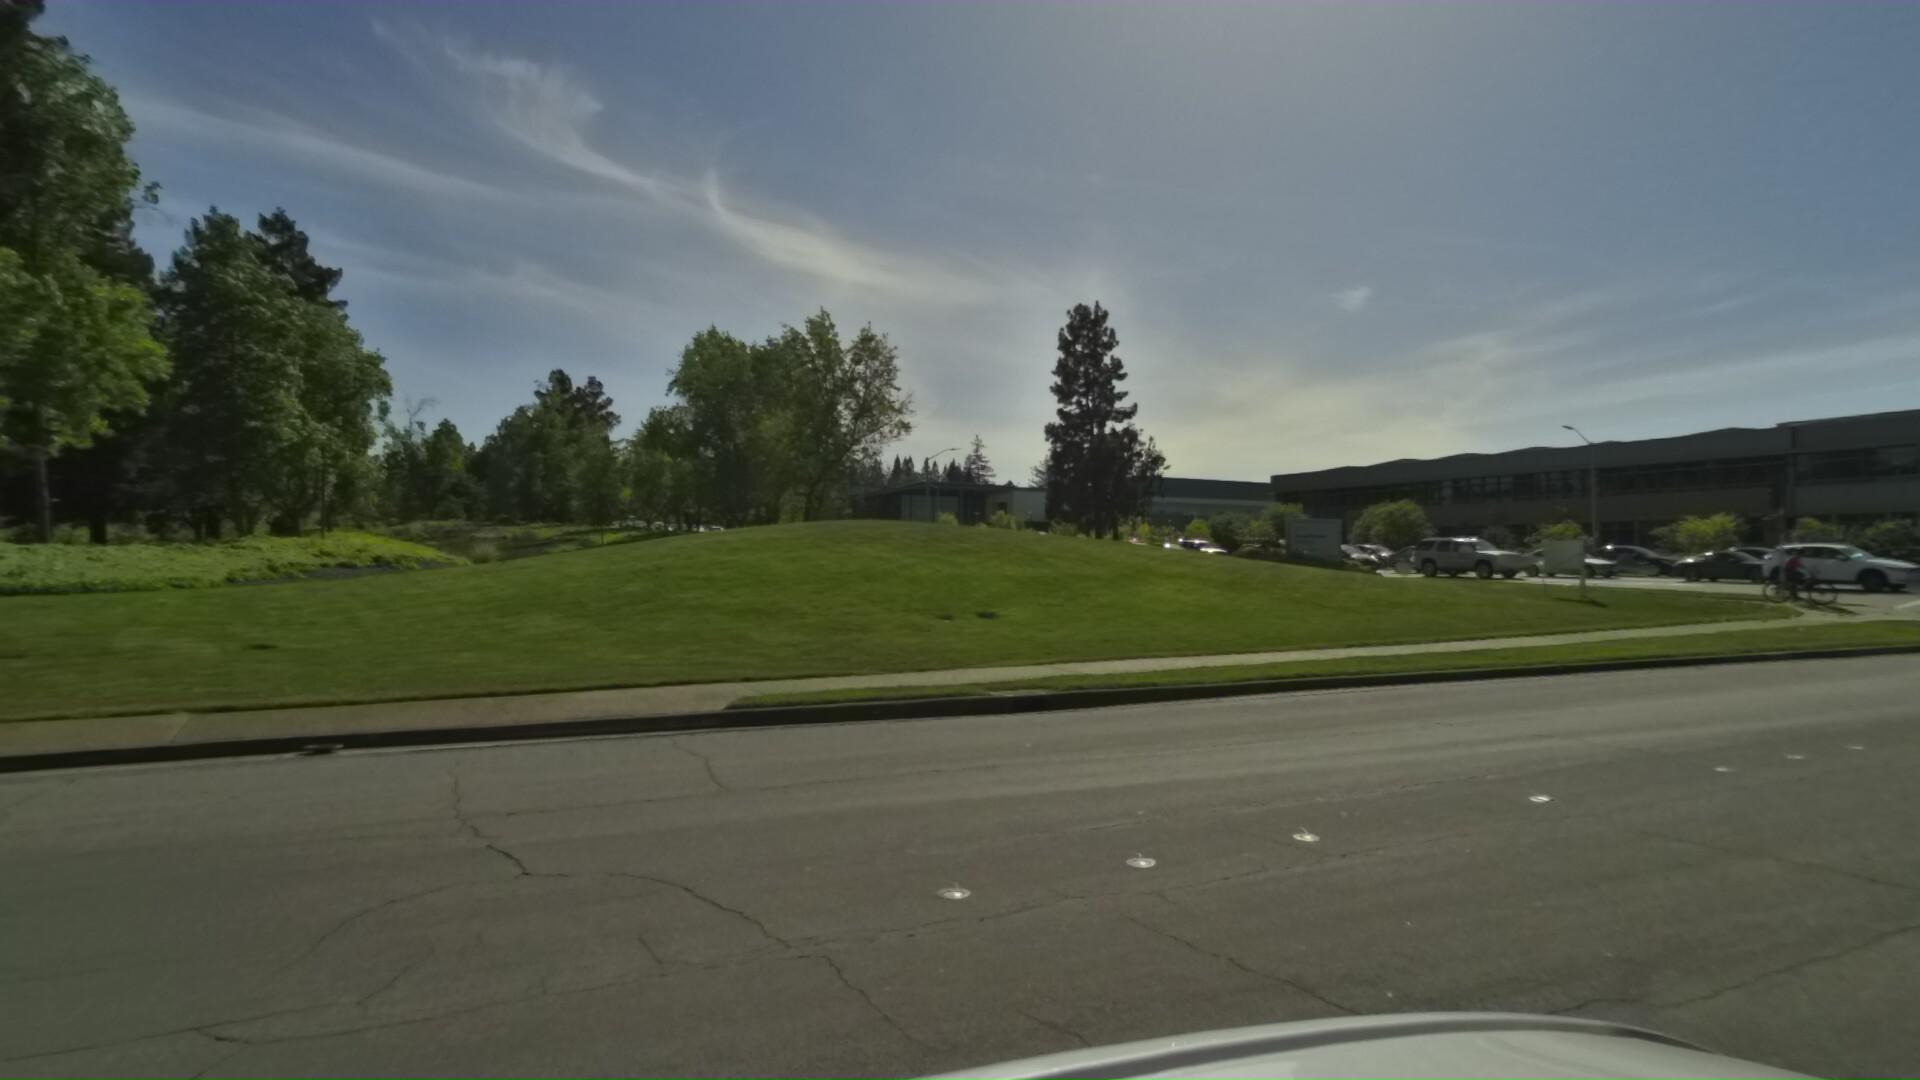bicycle: (1749, 538, 1832, 603)
car: (1749, 531, 1920, 591), (1400, 527, 1532, 580), (1658, 541, 1807, 585), (1510, 539, 1629, 580), (1571, 539, 1697, 574), (1844, 533, 1920, 585), (1385, 538, 1477, 572), (1298, 538, 1386, 572), (1865, 537, 1920, 582), (1160, 534, 1229, 563)
